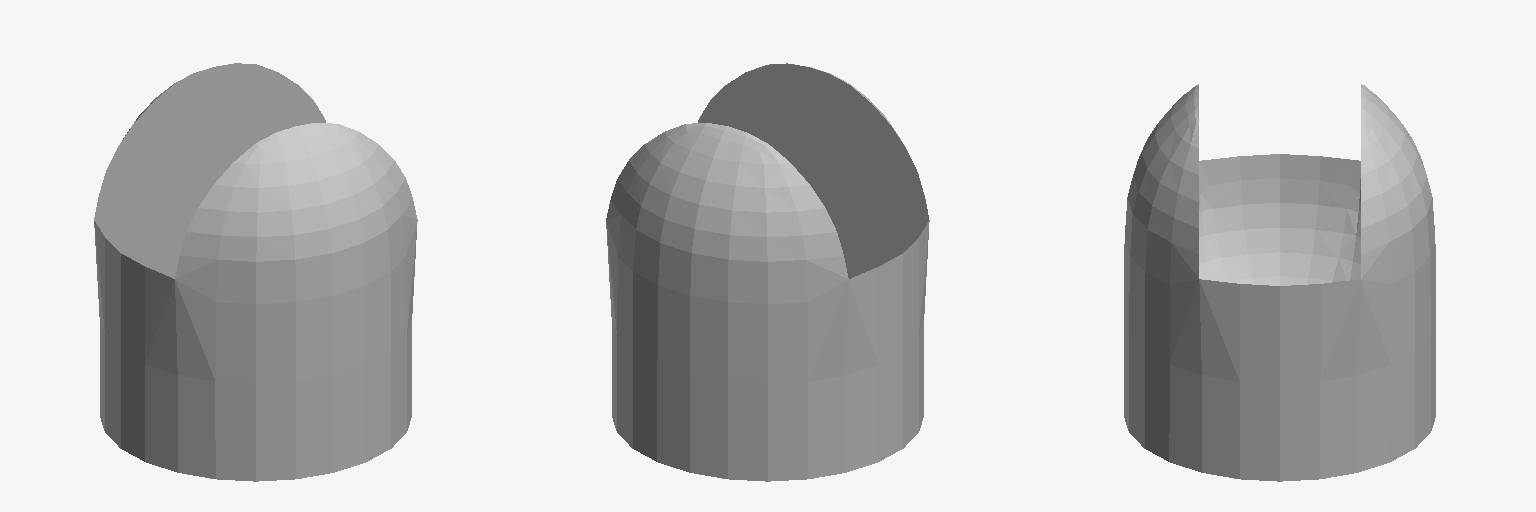
File: Tr-LeverBaseXY.obj
3 renders of one model, left to right at view 1: azimuth 30°, elevation 25°; view 2: azimuth 150°, elevation 25°; view 3: azimuth 270°, elevation 25°, orthographic.
Parts seen in each view (by area): view 1: Tr-LeverBaseXY_BaseLevier.001; view 2: Tr-LeverBaseXY_BaseLevier.001; view 3: Tr-LeverBaseXY_BaseLevier.001.
Part boxes in pixels (x1,y1,x2,y2): Tr-LeverBaseXY_BaseLevier.001: (94,63,417,481); Tr-LeverBaseXY_BaseLevier.001: (606,63,929,481); Tr-LeverBaseXY_BaseLevier.001: (1124,84,1435,481).
Bounding box in the file's own units: 0.0725 × 0.0816 × 0.0725.